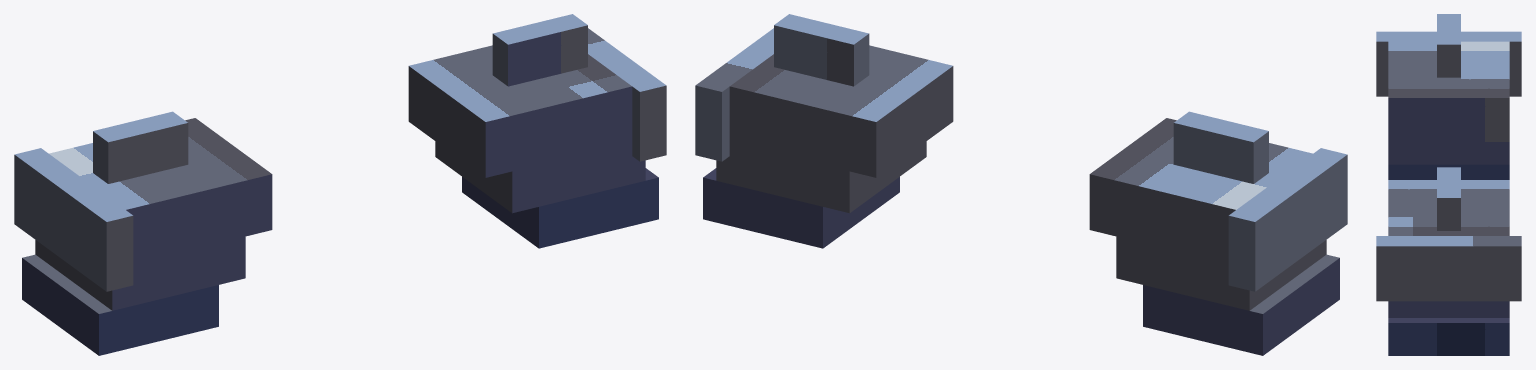
File: steel_shoulders.glb
3 renders of one model, left to right at view 1: azimuth 30°, elevation 25°; view 2: azimuth 150°, elevation 25°; view 3: azimuth 270°, elevation 25°, orthographic. The views are drawn at different scales.
Parts seen in each view (by area): view 1: pad_top_right, pad_top_left, pad_rim_left, pad_low_left, pad_mid_right, pad_low_right, pad_mid_left, ridge_left, ridge_right, pad_rim_right; view 2: pad_top_right, pad_top_left, pad_rim_left, pad_low_left, pad_mid_right, pad_low_right, pad_mid_left, ridge_left, ridge_right, pad_rim_right; view 3: pad_top_left, pad_rim_right, pad_top_right, pad_low_right, pad_mid_left, pad_rim_left, pad_mid_right, pad_low_left, ridge_right, ridge_left.
Part boxes in pixels (box(x1,y1,x2,y2)): pad_top_right: box(408, 45, 632, 177); pad_top_left: box(49, 118, 272, 263); pad_rim_left: box(14, 148, 133, 291); pad_low_left: box(22, 254, 218, 355); pad_mid_right: box(435, 141, 645, 213); pad_low_right: box(462, 168, 658, 248); pad_mid_left: box(35, 236, 245, 310); ridge_left: box(93, 111, 188, 183); ridge_right: box(492, 14, 587, 86); pad_rim_right: box(588, 28, 666, 161); pad_top_right: box(729, 45, 953, 177); pad_top_left: box(1089, 118, 1312, 263); pad_rim_left: box(1228, 148, 1347, 291); pad_low_left: box(1143, 254, 1339, 355); pad_mid_right: box(716, 141, 926, 213); pad_low_right: box(703, 168, 899, 248); pad_mid_left: box(1116, 236, 1326, 310); ridge_left: box(1173, 111, 1268, 183); ridge_right: box(774, 14, 869, 86); pad_rim_right: box(695, 28, 773, 161); pad_top_left: box(1388, 41, 1509, 141); pad_rim_right: box(1376, 236, 1521, 301); pad_top_right: box(1388, 180, 1509, 235); pad_low_right: box(1388, 318, 1509, 355); pad_mid_left: box(1388, 142, 1509, 164); pad_rim_left: box(1376, 31, 1521, 96); pad_mid_right: box(1388, 301, 1509, 317); pad_low_left: box(1388, 164, 1509, 179); ridge_right: box(1437, 167, 1460, 230); ridge_left: box(1437, 14, 1460, 77).
Size of the model in its own units: 0.6562 by 0.2031 by 0.1875.
1 material, 1 textured.
